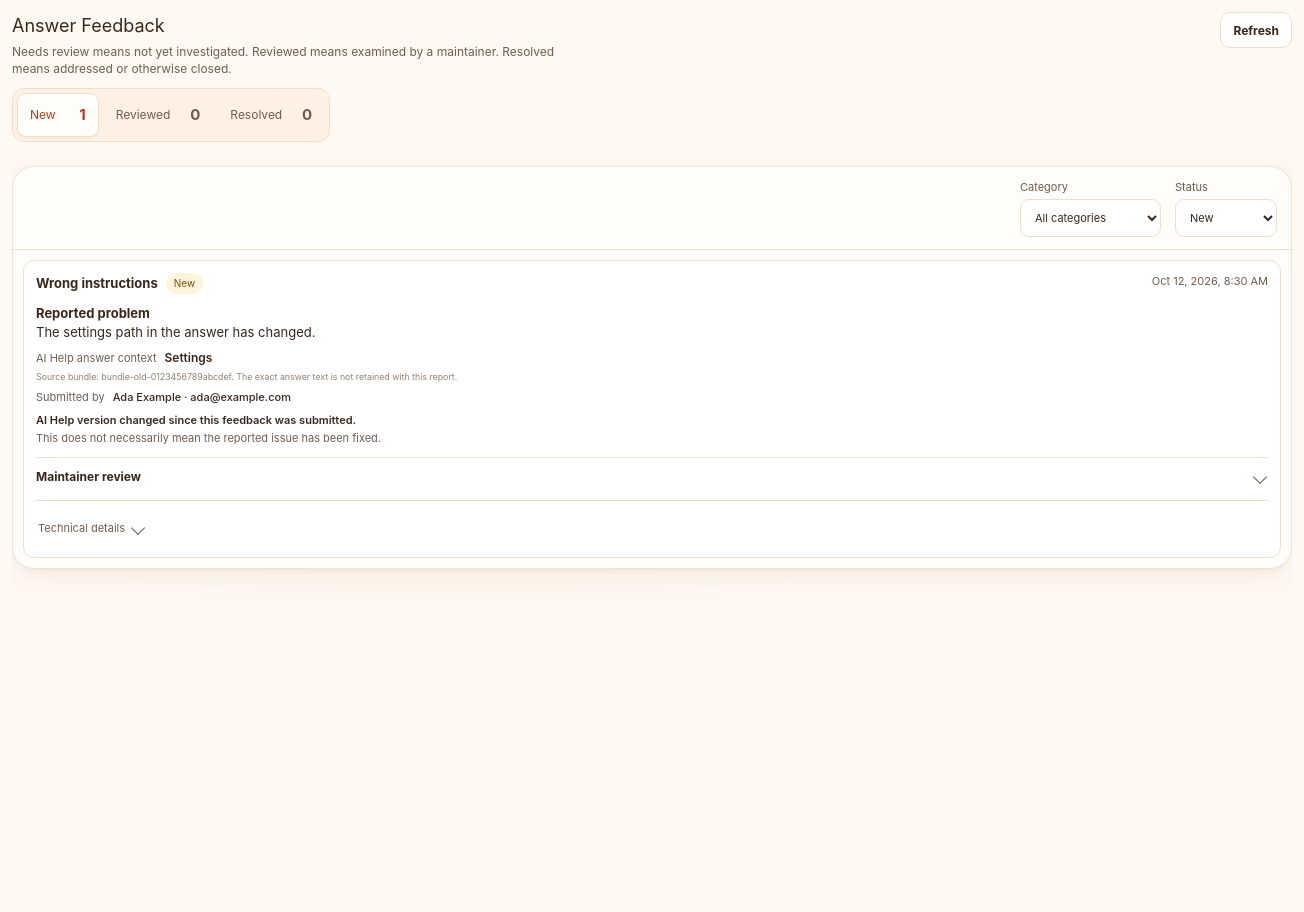
Test case: AnswerFeedbackWorkspace › shows account identity only when the submission DTO contains consented identity fields
Expected: the text "Ada Example · ada@example.com" is shown, [113,388,291,405]
Click the heading "Technical details". click: (92, 523)
box: [36,501,148,545]
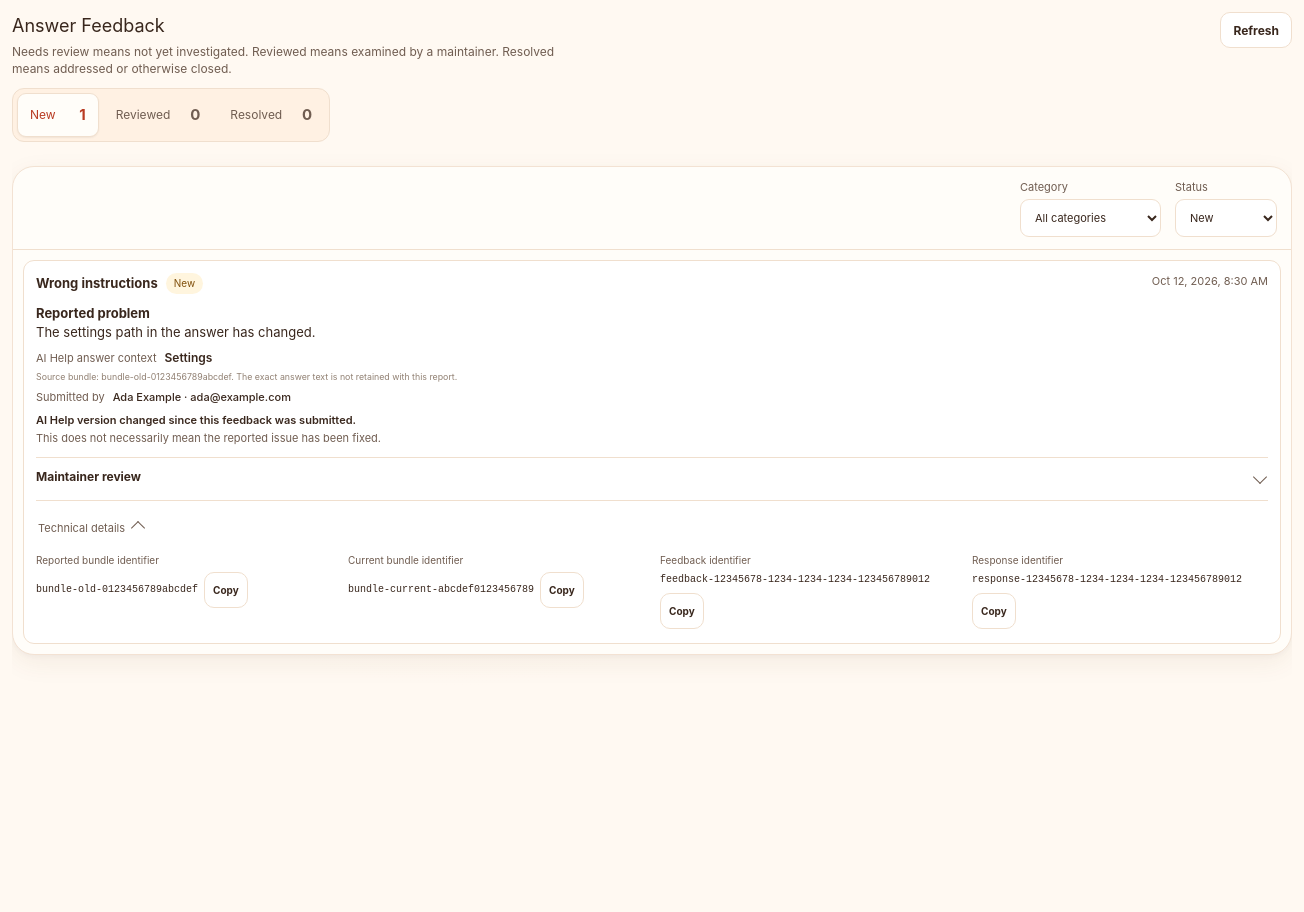
Now the text "response-12345678-1234-1234-1234-123456789012" is shown, box [972,572,1242,587]
